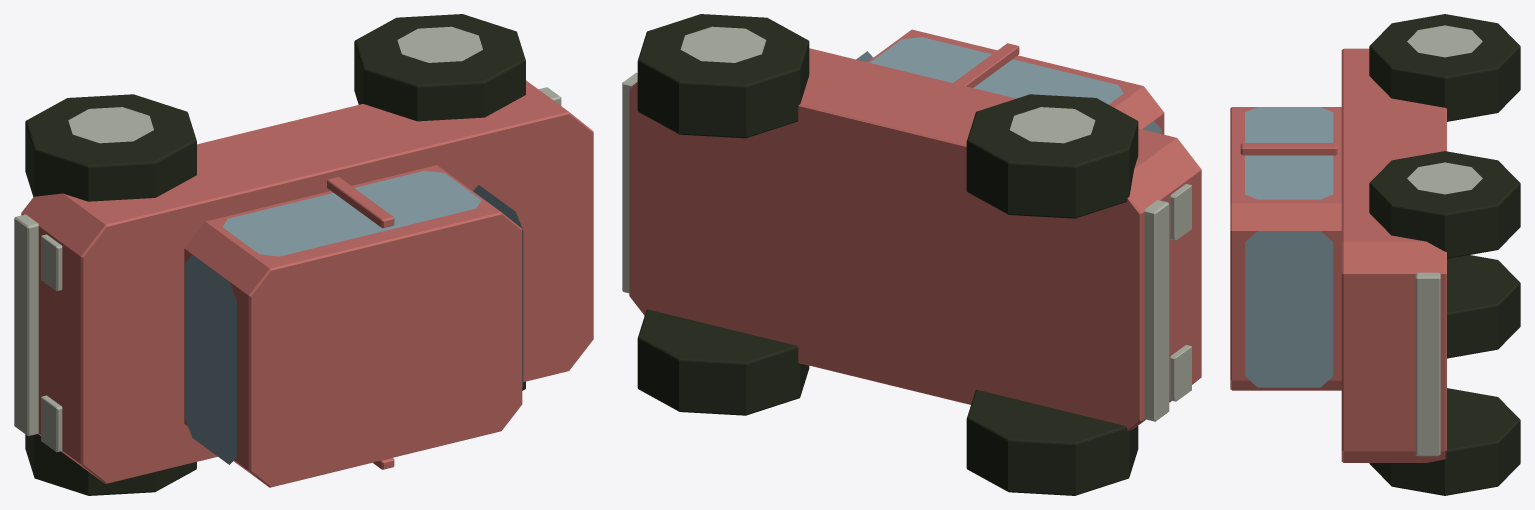
File: toy_car.glb
The picture shows the model from 3 angles, left to right: view 1: azimuth 30°, elevation 25°; view 2: azimuth 150°, elevation 25°; view 3: azimuth 270°, elevation 25°; orthographic projection. The views are drawn at different scales.
Parts seen in each view (by area): view 1: toy_car; view 2: toy_car; view 3: toy_car.
Boxes of the visible parts, left/top/right/bottom form: toy_car: left=14, top=14, right=593, bottom=495; toy_car: left=622, top=14, right=1201, bottom=495; toy_car: left=1230, top=14, right=1520, bottom=495.
Size of the model in its own units: 0.125 by 0.076 by 0.069.
